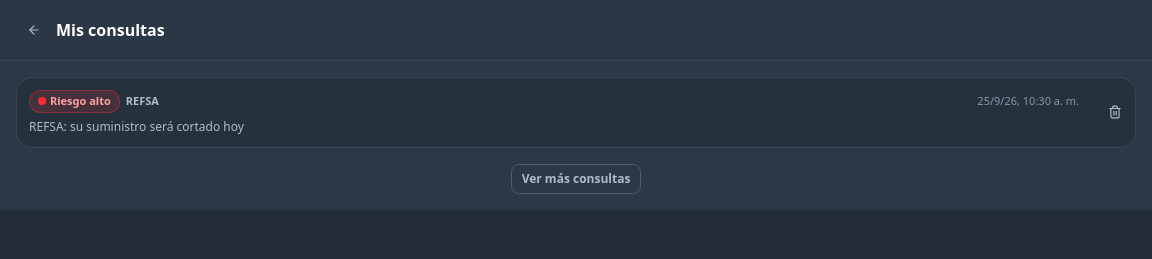
it: ChatHistoryView › pagina con "Ver más consultas"
Click the button "Ver más consultas" at (576, 178), box [511,164,641,194]
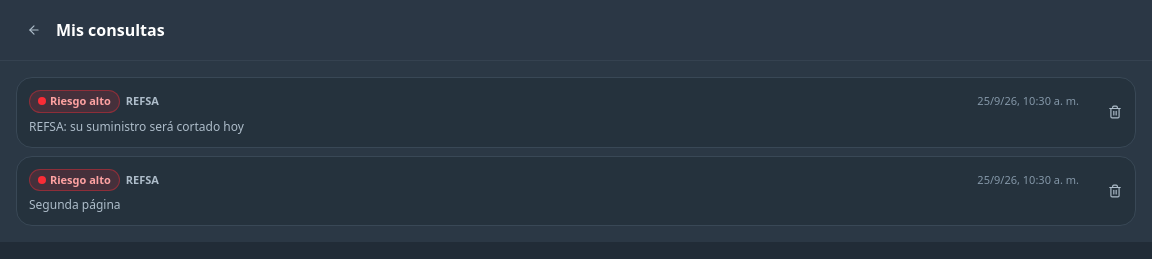
Check: the text "Segunda página" is shown, box [29,196,120,213]
Check: the button "Ver más consultas" is gone
